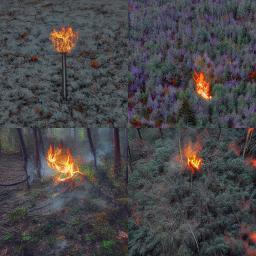Low smoke: (27, 142, 115, 207)
Small fire: (47, 146, 81, 182), (174, 143, 208, 175), (50, 26, 78, 55), (192, 70, 216, 100)
